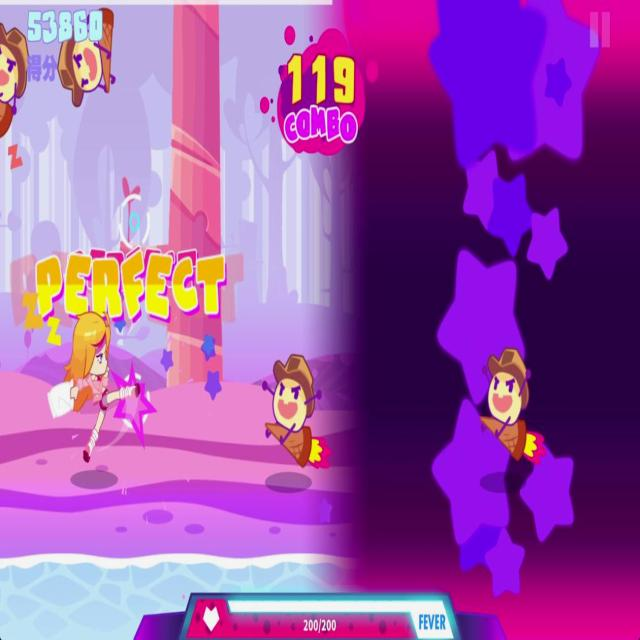qiu: (256, 346, 334, 478), (478, 343, 548, 468), (58, 7, 118, 108), (0, 23, 30, 144)
